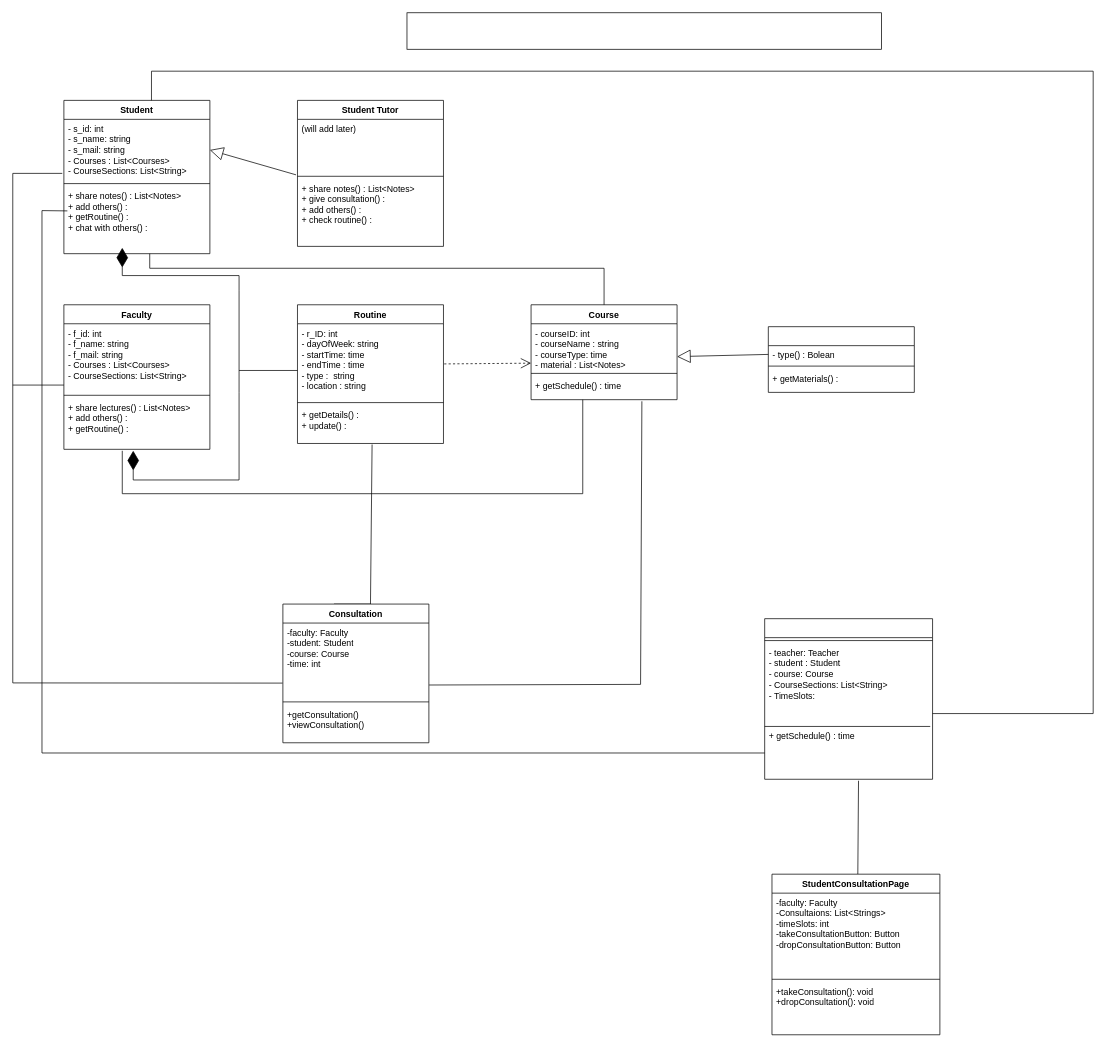
Image size: 1107x1050. Some labels were removed from this diagram. Here are the shapes that lost their labels. From the top down, the box of each, then its label:
(406, 12, 881, 49): Academic Life Management System
(768, 326, 914, 392): Notes
(764, 618, 933, 779): StudentConsultationController
